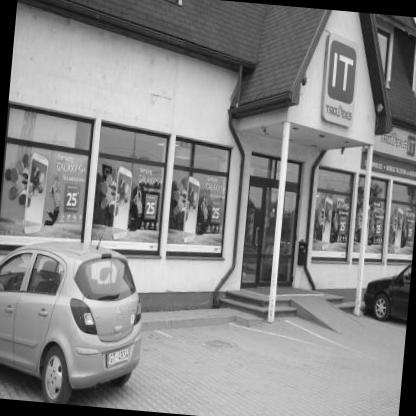car: (1, 225, 162, 412), (356, 258, 413, 327)
